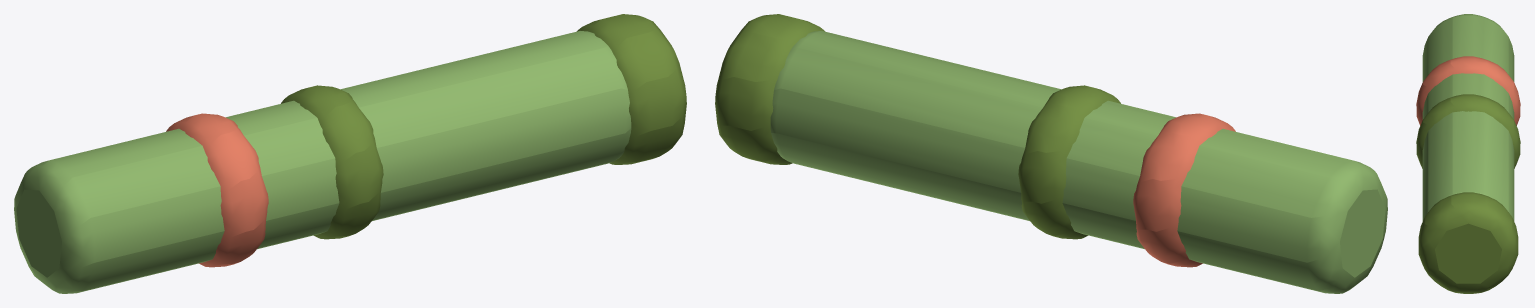
File: shishi_arm.glb
3 renders of one model, left to right at view 1: azimuth 30°, elevation 25°; view 2: azimuth 150°, elevation 25°; view 3: azimuth 270°, elevation 25°, orthographic. The views are drawn at different scales.
Parts seen in each view (by area): view 1: band_pivot; view 2: band_pivot; view 3: band_pivot.
Part boxes in pixels (x1,y1,x2,y2): band_pivot: (14,14,686,293); band_pivot: (715,14,1387,293); band_pivot: (1416,14,1520,293).
Size of the model in its own units: 0.675 by 0.1455 by 0.1452.
